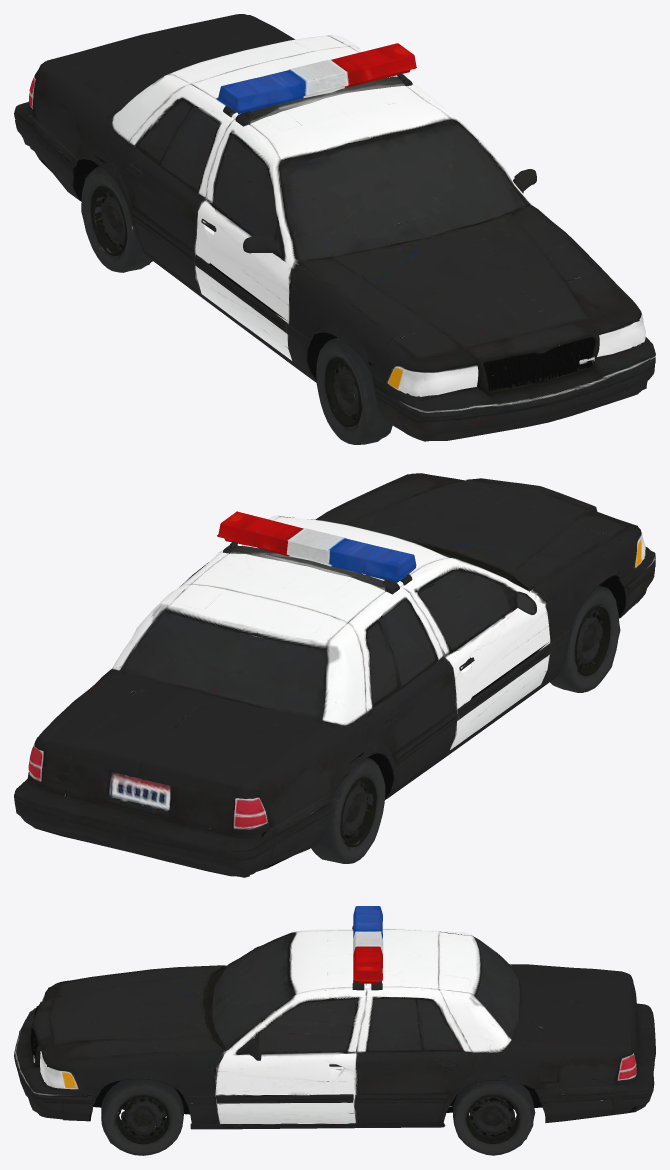
Rendered from police-v7.glb.
3 views of the same model, one above another, from view 1: azimuth 30°, elevation 25°; view 2: azimuth 150°, elevation 25°; view 3: azimuth 270°, elevation 25° (orthographic). The views are drawn at different scales.
Parts seen in each view (by area): view 1: body, wheel_fl_mesh, wheel_rl_mesh; view 2: body, wheel_rl_mesh, wheel_fl_mesh; view 3: body, wheel_fr_mesh, wheel_rr_mesh.
Part boxes in pixels (box(x1,y1,x2,y2)): body: box(14, 14, 655, 441); wheel_fl_mesh: box(316, 338, 392, 444); wheel_rl_mesh: box(81, 166, 152, 272); body: box(14, 473, 655, 877); wheel_rl_mesh: box(311, 757, 385, 863); wheel_fl_mesh: box(550, 586, 620, 692); body: box(14, 906, 655, 1129); wheel_fr_mesh: box(101, 1079, 183, 1155); wheel_rr_mesh: box(453, 1081, 535, 1155).
Bounding box in the file's own units: 0.3744 × 0.2837 × 0.9531.
Materials: 1 (1 with a texture image).
